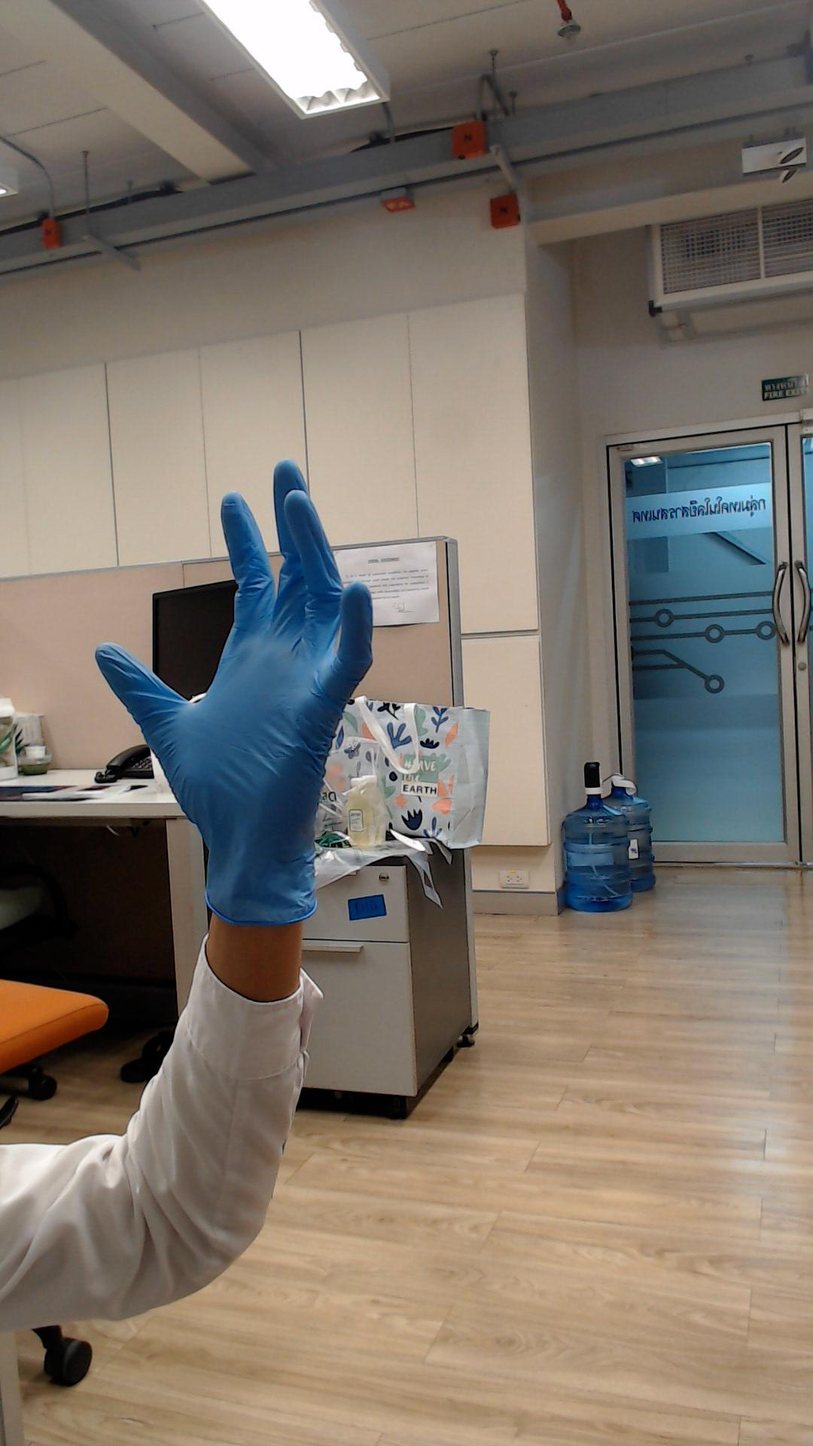gloves: (69, 447, 394, 780)
